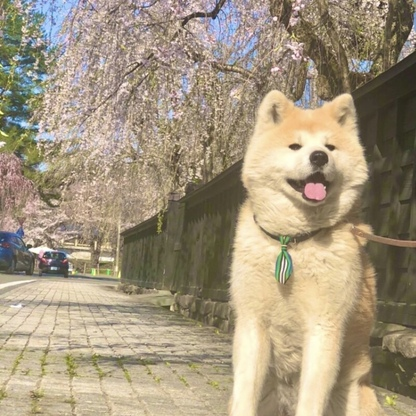akita: (218, 82, 390, 416)
